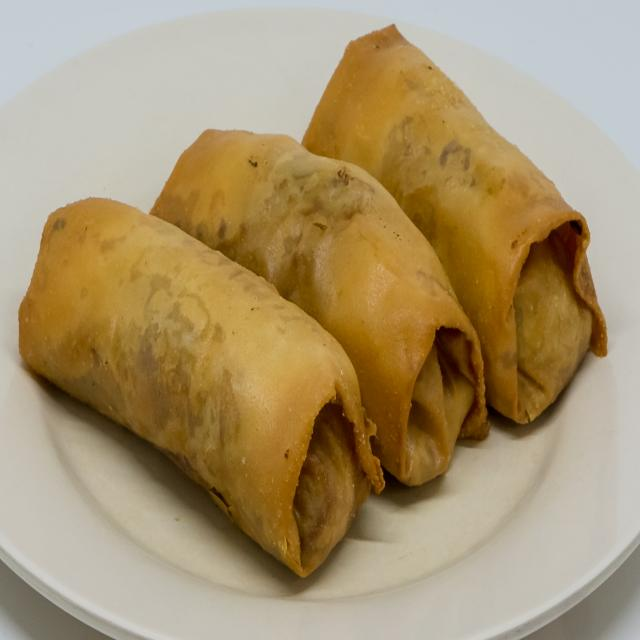Lumpia-Semarang: (15, 17, 614, 595)
